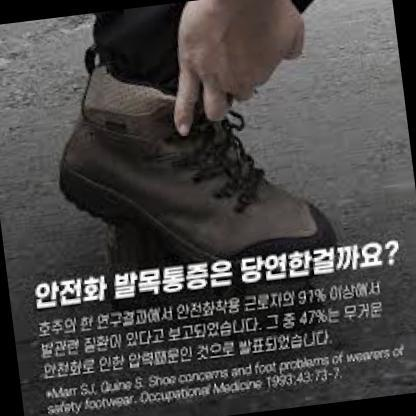safety-shoe: (58, 40, 356, 301)
